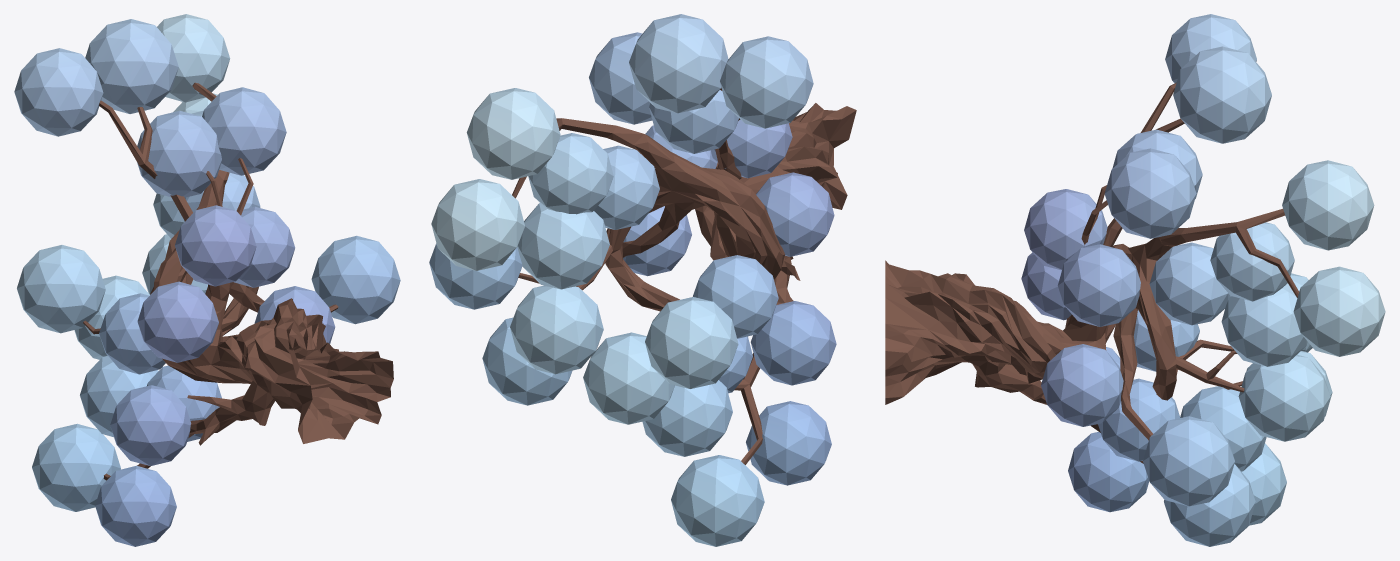
Rendered from big_fabulous_tree_draco.glb.
3 views of the same model, side by side, from view 1: azimuth 30°, elevation 25°; view 2: azimuth 150°, elevation 25°; view 3: azimuth 270°, elevation 25° (orthographic). The views are drawn at different scales.
Parts seen in each view (by area): view 1: big_fabulous_tree_001.001; view 2: big_fabulous_tree_001.001; view 3: big_fabulous_tree_001.001.
Boxes of the visible parts, box(x1,y1,x2,y2) form: big_fabulous_tree_001.001: box(14, 14, 400, 546); big_fabulous_tree_001.001: box(429, 14, 856, 546); big_fabulous_tree_001.001: box(885, 14, 1385, 546).
Bounding box in the file's own units: 8.65 × 11.04 × 10.08.
1 material, 1 textured.
